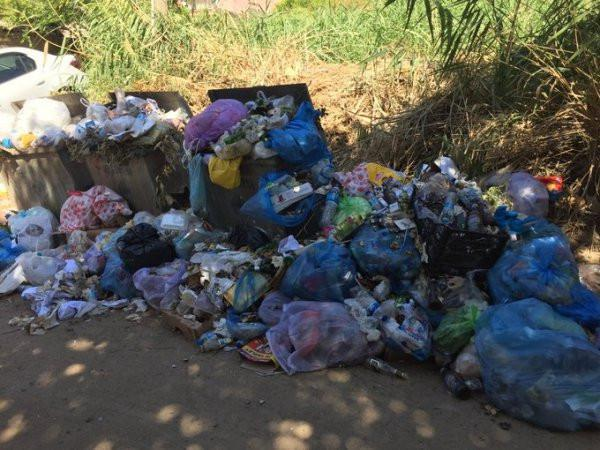Container: (193, 85, 321, 222), (90, 87, 190, 207), (6, 96, 81, 199), (85, 148, 193, 213), (3, 156, 81, 206)
Garbage: (340, 166, 600, 432), (171, 198, 429, 383), (1, 208, 229, 331), (191, 106, 335, 236), (79, 98, 182, 144), (2, 107, 81, 152)
